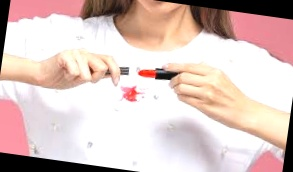lipstick: (118, 84, 145, 107)
